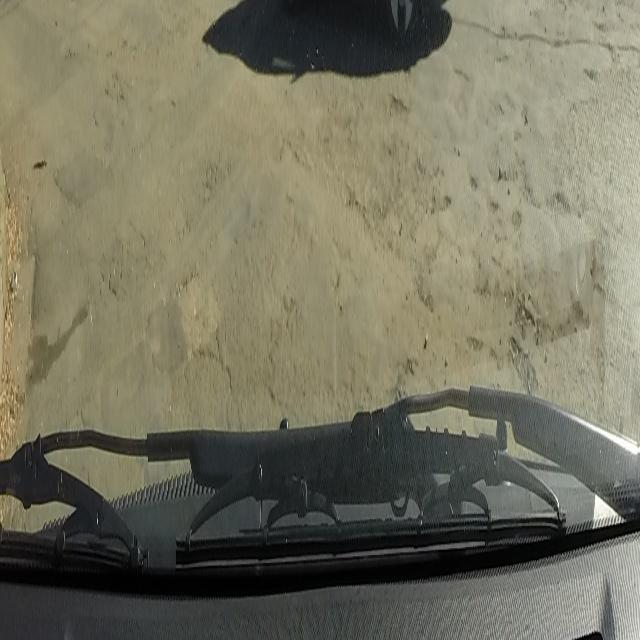pothole: (504, 324, 540, 401)
